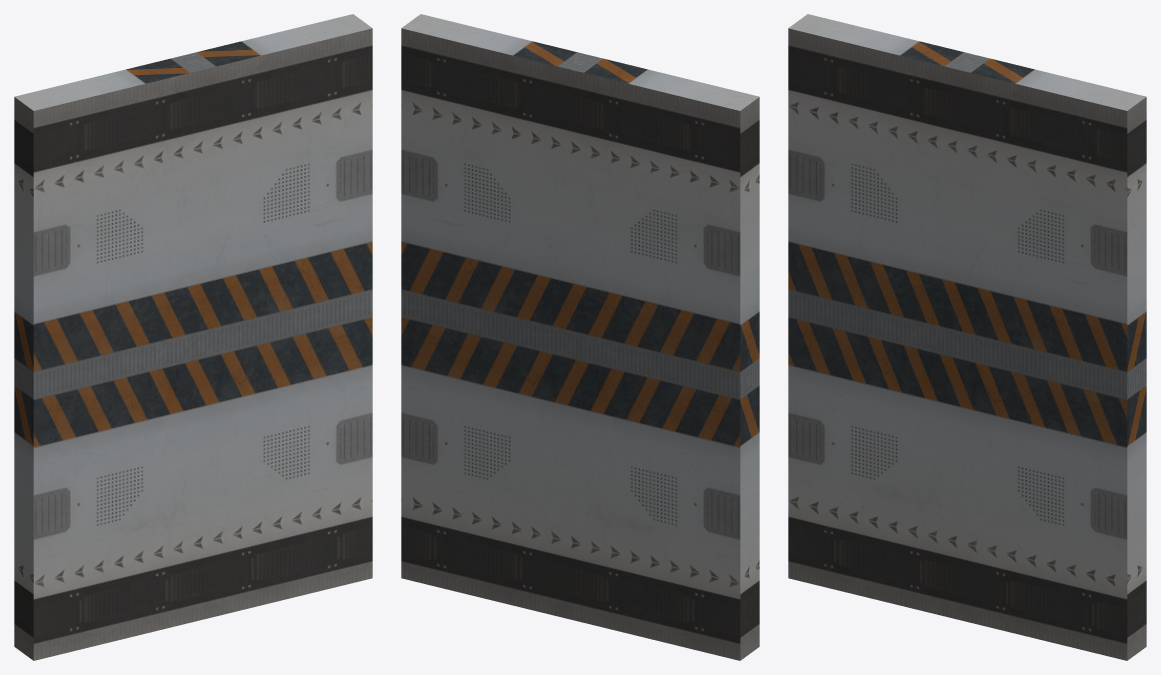
The model's file is GateStart.fbx.
3 renders of one model, left to right at view 1: azimuth 30°, elevation 25°; view 2: azimuth 150°, elevation 25°; view 3: azimuth 330°, elevation 25°, orthographic.
Parts seen in each view (by area): view 1: GateLeftStart, GateRightStart; view 2: GateLeftStart, GateRightStart; view 3: GateRightStart, GateLeftStart.
Boxes of the visible parts, left/top/right/bottom form: GateLeftStart: left=14, top=55, right=203, bottom=660; GateRightStart: left=184, top=14, right=372, bottom=619; GateLeftStart: left=570, top=55, right=759, bottom=660; GateRightStart: left=401, top=14, right=589, bottom=619; GateRightStart: left=957, top=55, right=1146, bottom=660; GateLeftStart: left=788, top=14, right=976, bottom=619.
Bounding box in the file's own units: 2 × 3.1 × 0.2.
